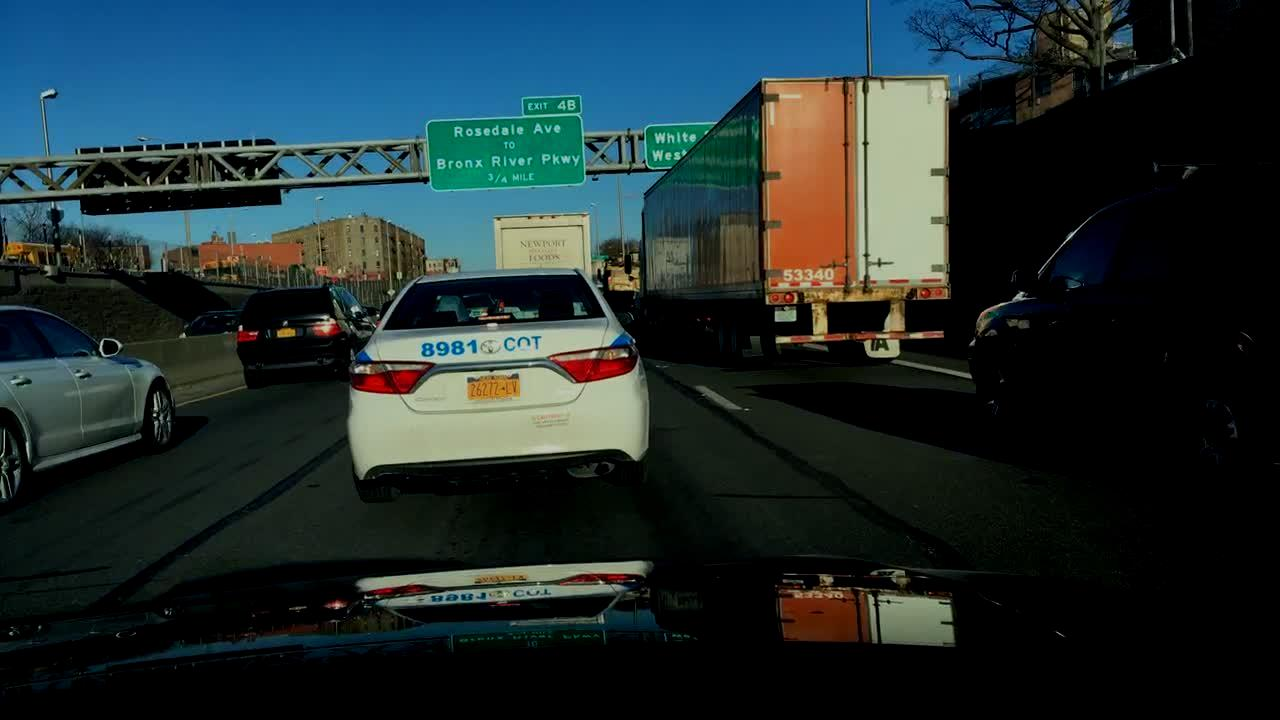Toyota: (474, 336, 503, 360)
